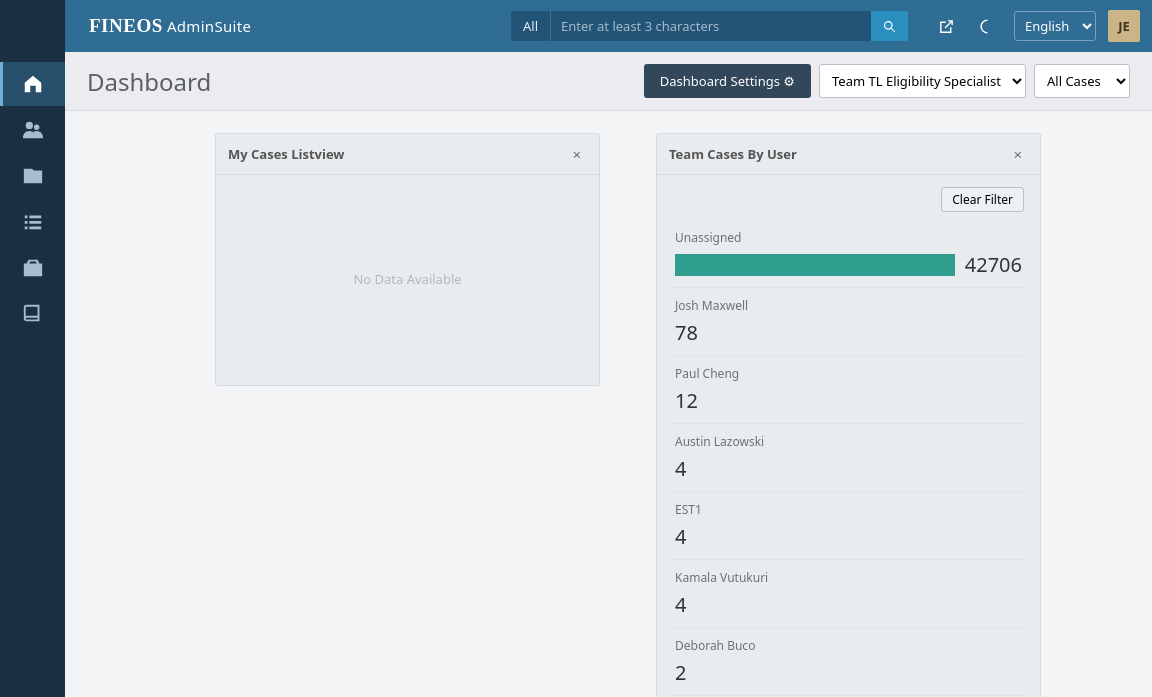
Test: Side-navigation search shortcuts › opens Case Search on the Party tab from the Parties icon without leaving the dashboard
Click the button named "parties".
click(32, 130)  # box [0,108,65,152]
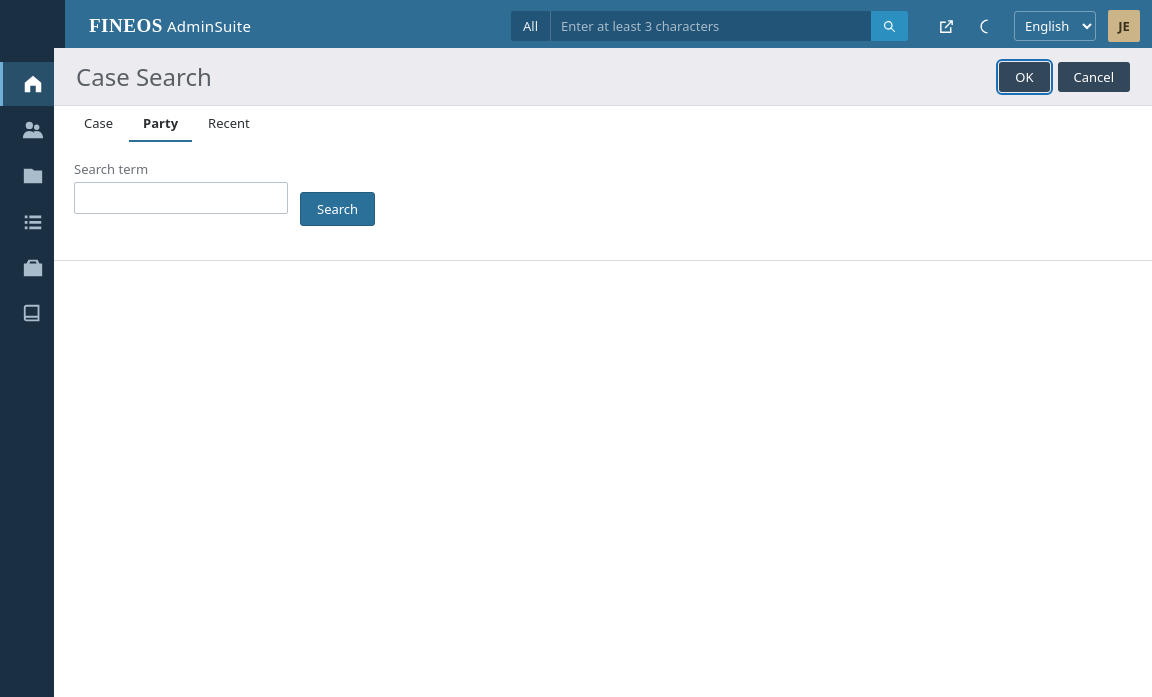
expect the field labelled "Search term" is shown: met, box [74,182,288,214]
